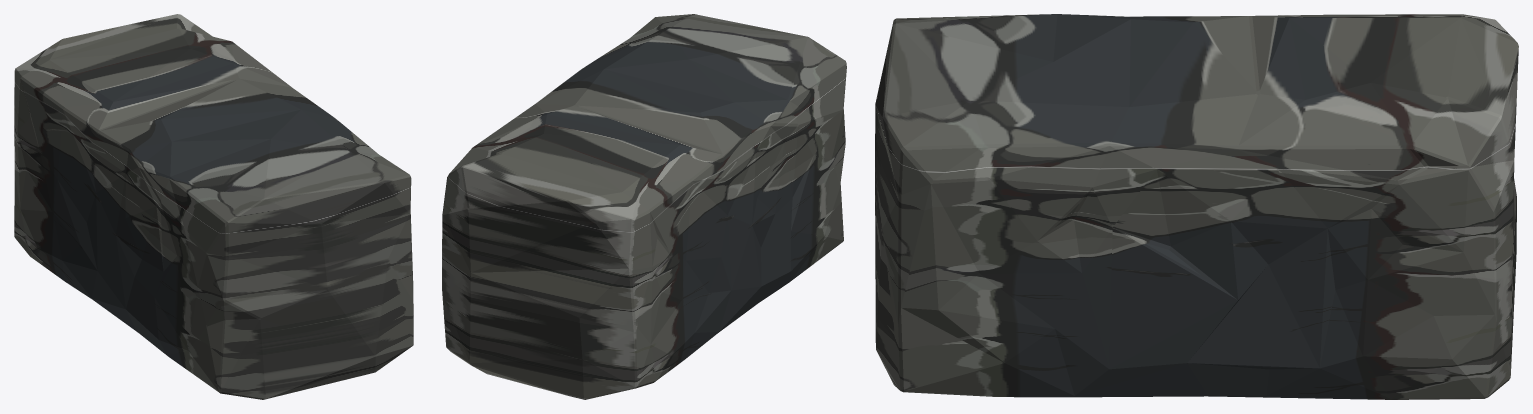
Rendered from Mod_PF2m.fbx.
3 views of the same model, side by side, from view 1: azimuth 30°, elevation 25°; view 2: azimuth 150°, elevation 25°; view 3: azimuth 270°, elevation 25° (orthographic). The views are drawn at different scales.
Parts seen in each view (by area): view 1: PF2mA_Movable; view 2: PF2mA_Movable; view 3: PF2mA_Movable.
Part boxes in pixels (bbox=[...]): PF2mA_Movable: bbox=[14, 14, 413, 399]; PF2mA_Movable: bbox=[442, 14, 846, 399]; PF2mA_Movable: bbox=[875, 14, 1518, 399].
Size of the model in its own units: 1.06 by 1.04 by 2.04.
